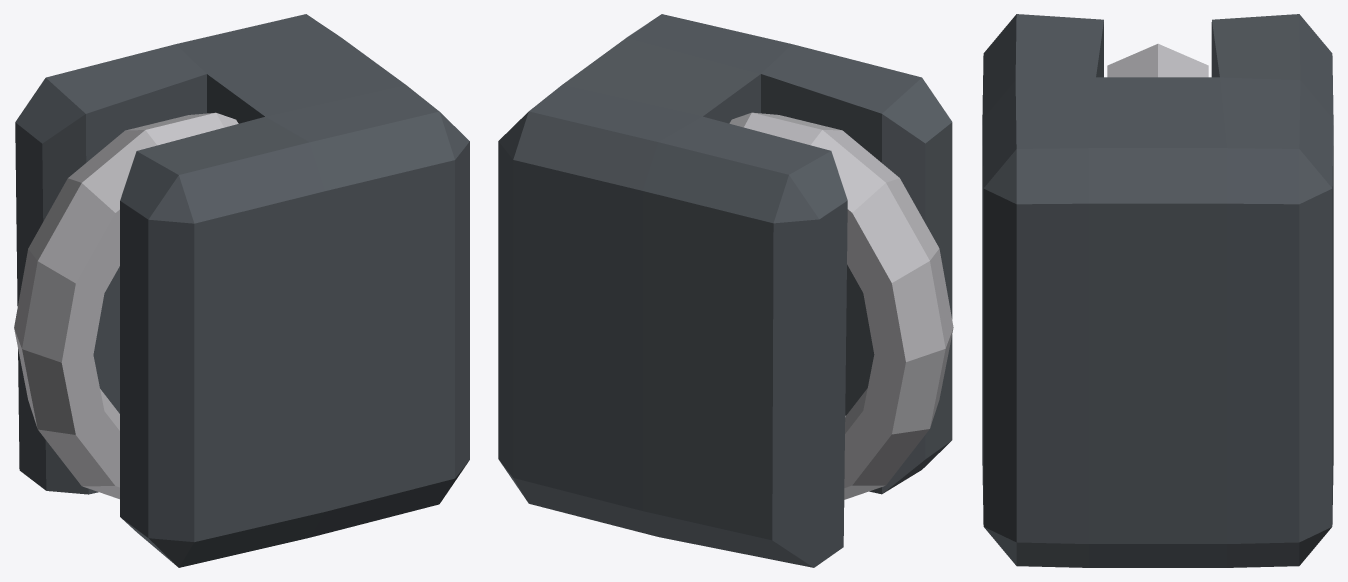
File: Mothership_02_Detail_9.fbx
3 views of the same model, side by side, from view 1: azimuth 30°, elevation 25°; view 2: azimuth 150°, elevation 25°; view 3: azimuth 270°, elevation 25° (orthographic). The views are drawn at different scales.
Visible parts, largest first — view 1: Mothership_02_Detail_9; view 2: Mothership_02_Detail_9; view 3: Mothership_02_Detail_9.
Boxes of the visible parts, x1,y1,x2,y2 form: Mothership_02_Detail_9: [14, 14, 469, 567]; Mothership_02_Detail_9: [498, 14, 953, 567]; Mothership_02_Detail_9: [982, 14, 1333, 567].
Size of the model in its own units: 210 by 208 by 158.
Materials: 1 (1 with a texture image).
